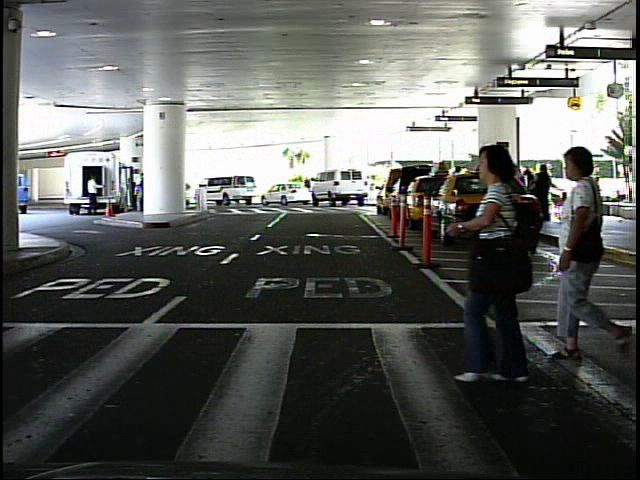person: (536, 132, 637, 382), (449, 138, 538, 396), (83, 170, 102, 220), (588, 172, 607, 218), (365, 171, 379, 206)
